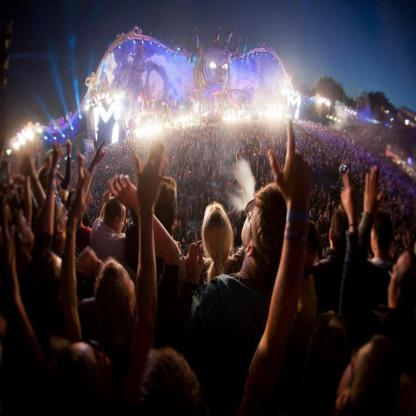face: (243, 202, 261, 258), (17, 217, 35, 243), (56, 204, 73, 230), (117, 208, 127, 237), (69, 199, 81, 218)
